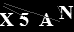5: (19, 12, 30, 26)
A: (37, 12, 54, 26)
N: (57, 5, 73, 20)
X: (1, 12, 13, 26)
